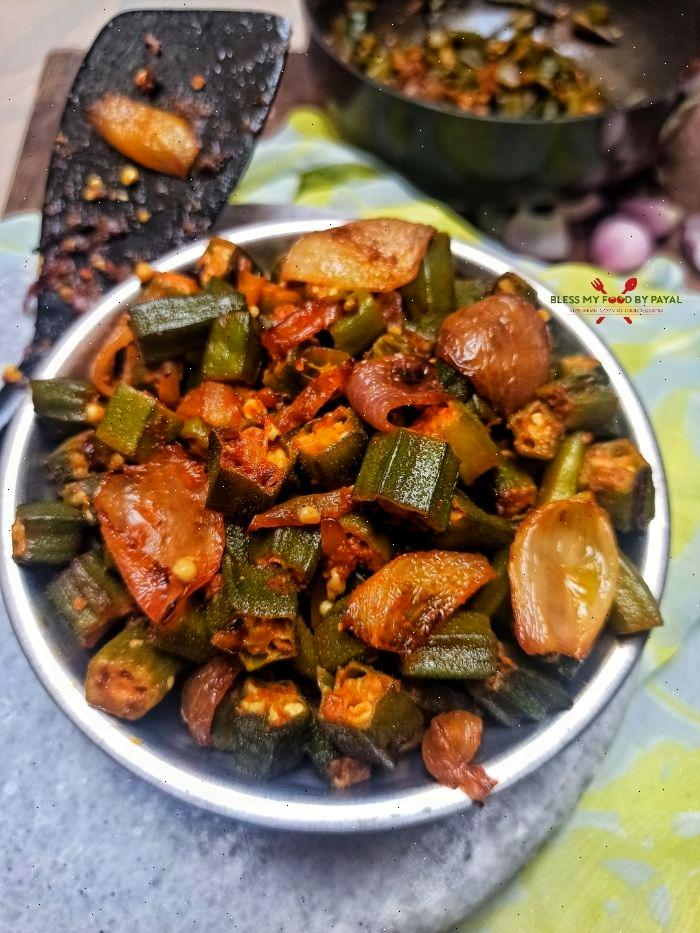bhindi: (61, 268, 552, 745)
